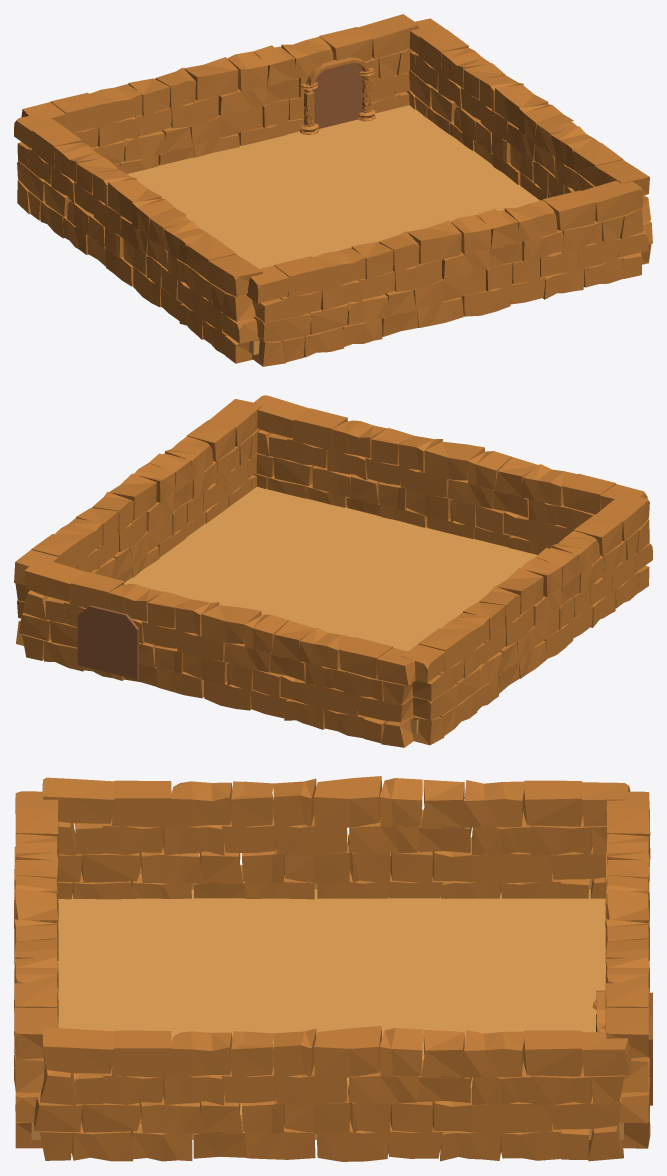
3 views of the same model, one above another, from view 1: azimuth 30°, elevation 25°; view 2: azimuth 150°, elevation 25°; view 3: azimuth 270°, elevation 25° (orthographic). The views are drawn at different scales.
Parts seen in each view (by area): view 1: Cube.051; view 2: Cube.051; view 3: Cube.051.
Part boxes in pixels (left/top/right/bottom): Cube.051: left=14, top=14, right=652, bottom=366; Cube.051: left=14, top=395, right=652, bottom=747; Cube.051: left=14, top=776, right=652, bottom=1161.
Size of the model in its own units: 11.02 by 2.26 by 11.07.
